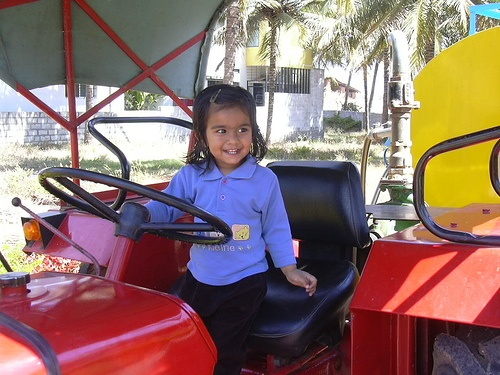head: (196, 85, 256, 164)
person: (149, 78, 319, 375)
